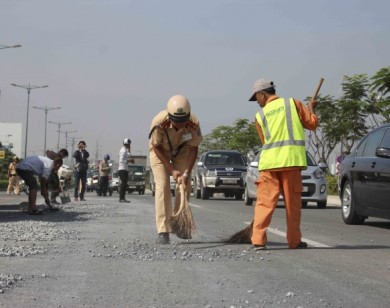police: (141, 92, 205, 249)
